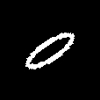chain: (26, 33, 73, 68)
